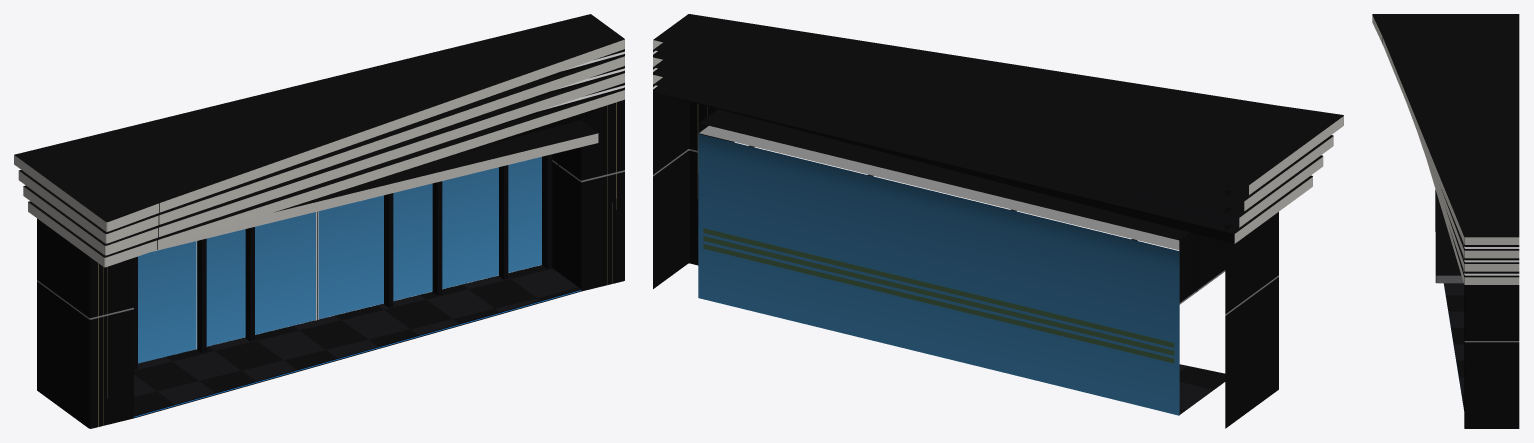
The model's file is Wall_Door_12x5x2_002_L0.fbx.
The picture shows the model from 3 angles, left to right: view 1: azimuth 30°, elevation 25°; view 2: azimuth 150°, elevation 25°; view 3: azimuth 270°, elevation 25°; orthographic projection. The views are drawn at different scales.
Parts seen in each view (by area): view 1: Wall_Door_12x5x2_002_L0; view 2: Wall_Door_12x5x2_002_L0; view 3: Wall_Door_12x5x2_002_L0.
Part boxes in pixels (box(x1,y1,x2,y2)): Wall_Door_12x5x2_002_L0: box(14, 14, 624, 428); Wall_Door_12x5x2_002_L0: box(653, 14, 1343, 428); Wall_Door_12x5x2_002_L0: box(1372, 14, 1519, 428).
Bounding box in the file's own units: 12.5 × 3.48 × 5.
